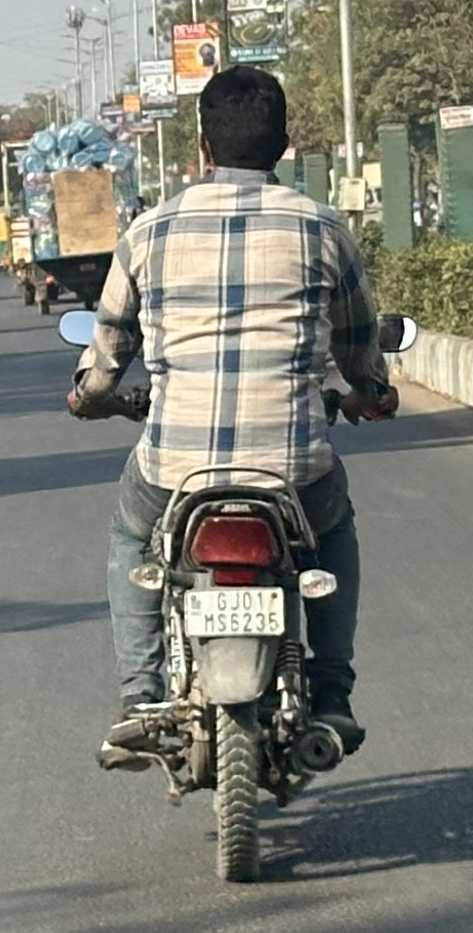BikeWithRider: (50, 54, 426, 895)
NoHelmet: (183, 56, 301, 190)
